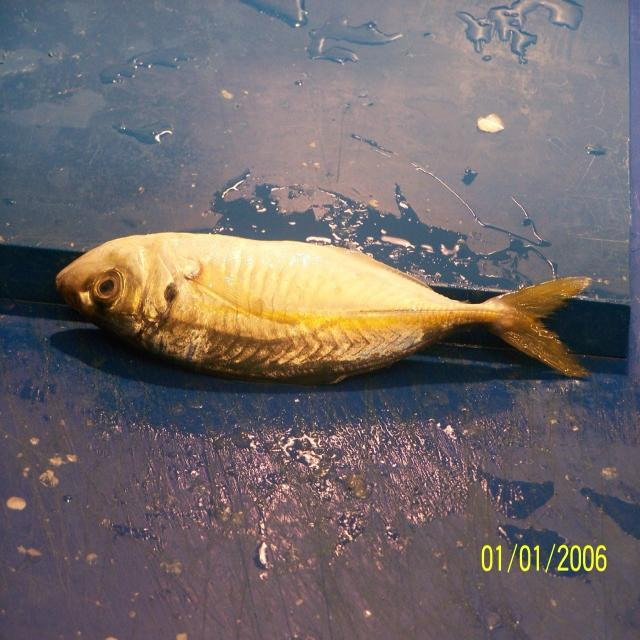Hourse-Mackerel-istavrit-: (53, 232, 592, 387)
